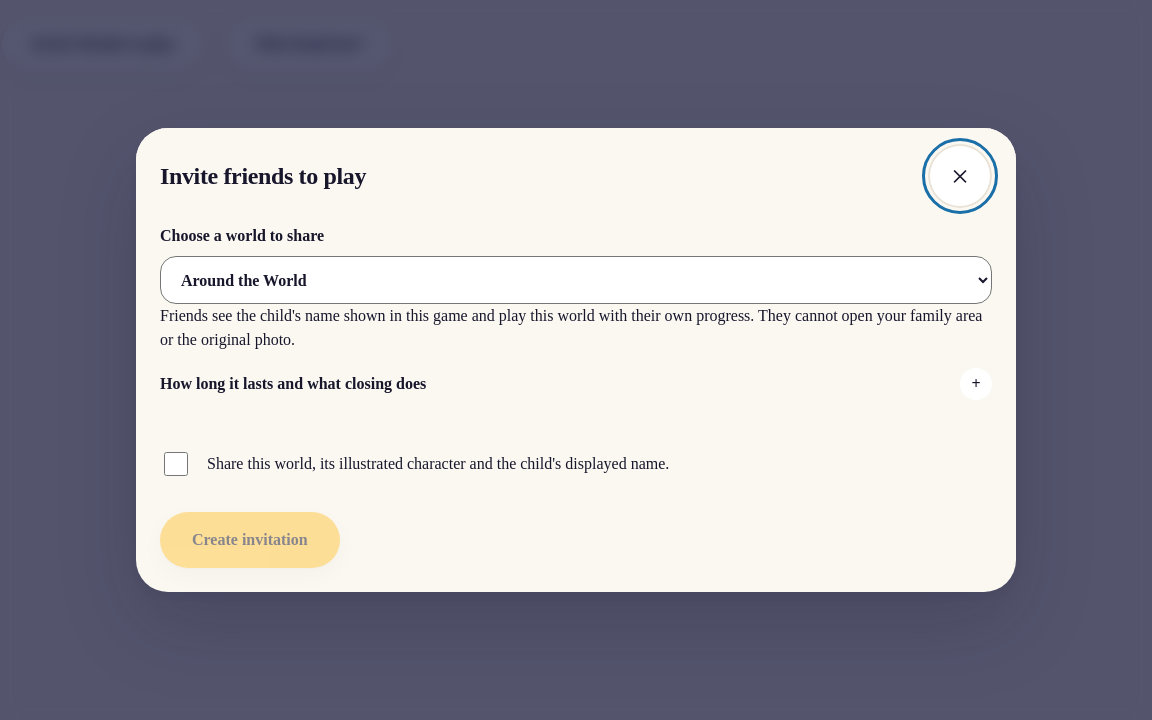
parent-managed friends invitations › selects the returned link and provides manual copying feedback when the clipboard refuses it
Step 1. Click the checkbox labelled "Share this world, its illustrated character and the child's displayed name." → (176, 464), box x1=164 y1=452 x2=188 y2=476
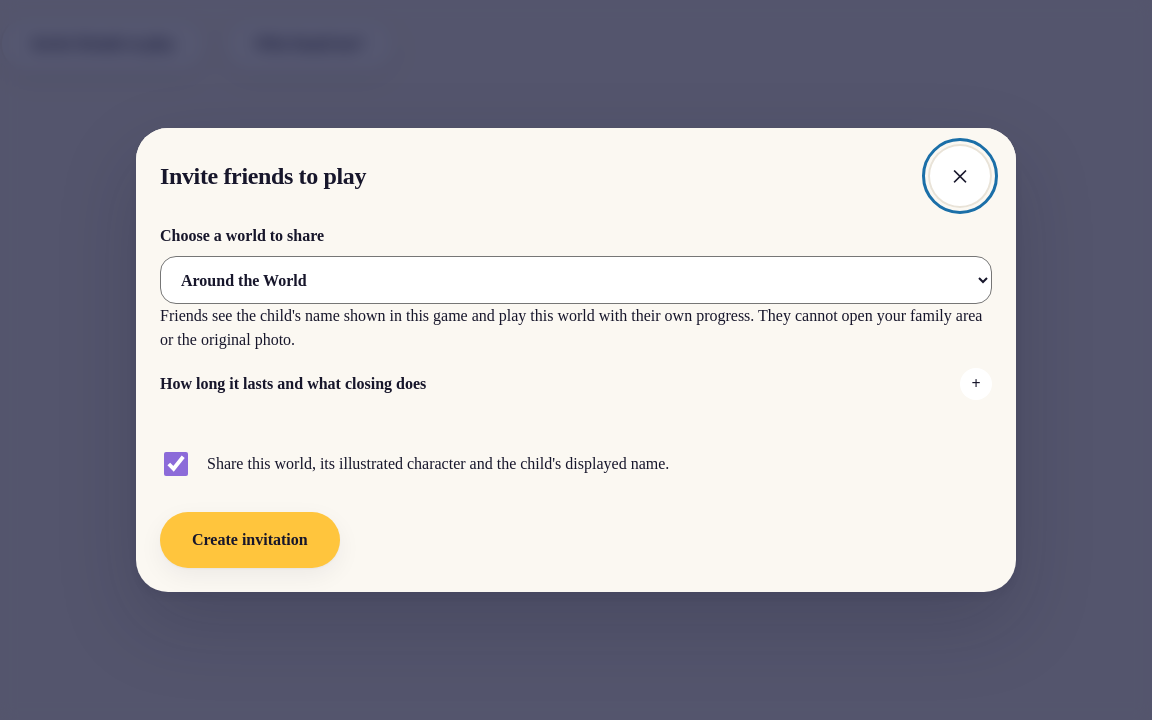
Step 2. Click the button "Create invitation" → (250, 540), box x1=160 y1=512 x2=340 y2=568
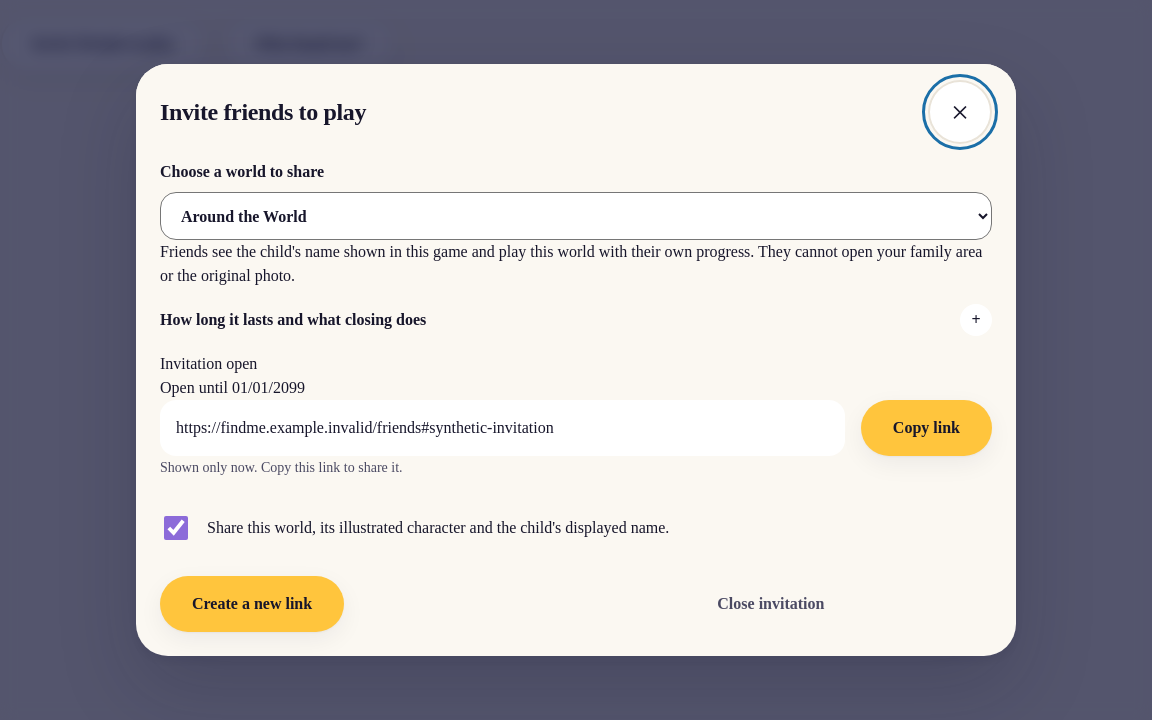
Step 3. Click the button "Copy link" → (926, 428), box x1=861 y1=400 x2=992 y2=456
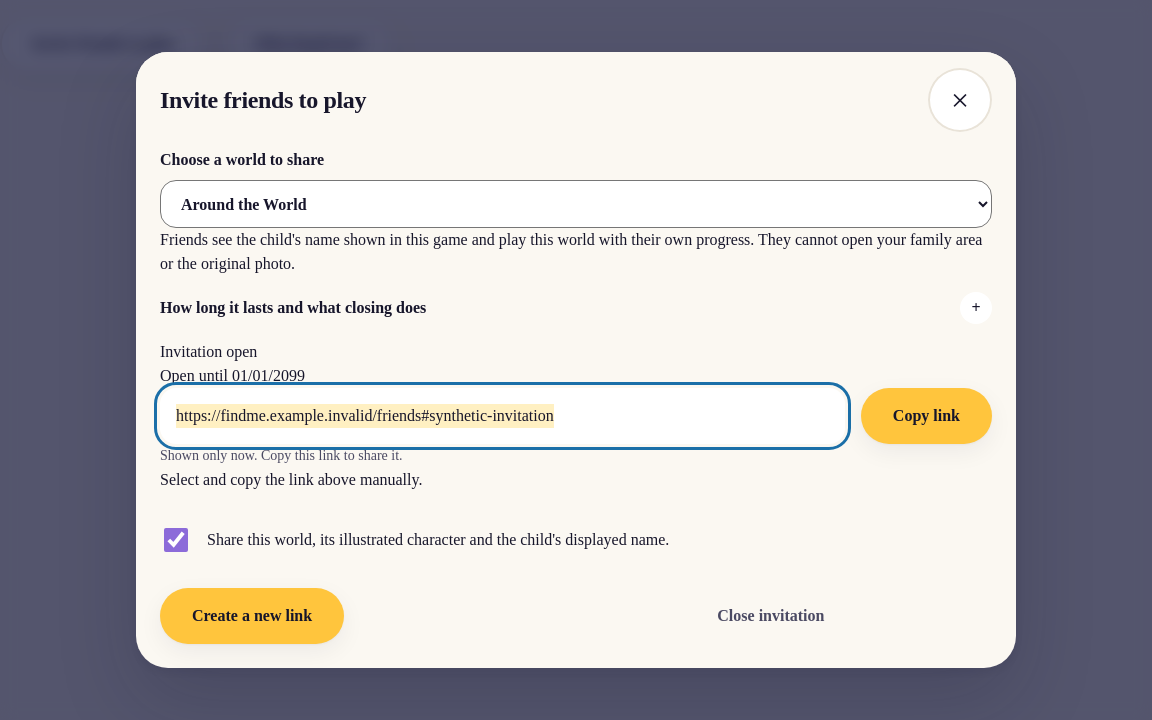
Check: the button "Link copied" is not shown
Check: the text "Select and copy the link above manually." is shown, box x1=160 y1=471 x2=422 y2=488
Step 4. Click the button "Copy link" → (926, 416), box x1=861 y1=388 x2=992 y2=444
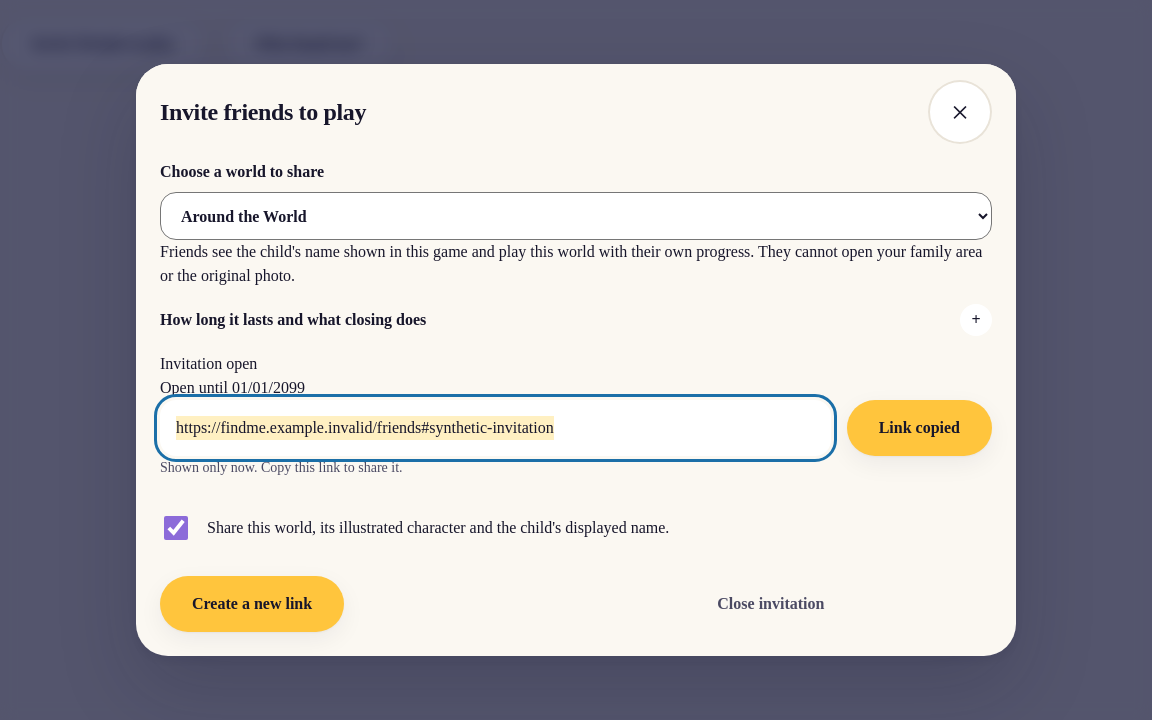
Check: the button "Link copied" is shown, box x1=847 y1=400 x2=992 y2=456
Check: the text "Select and copy the link above manually." is gone
